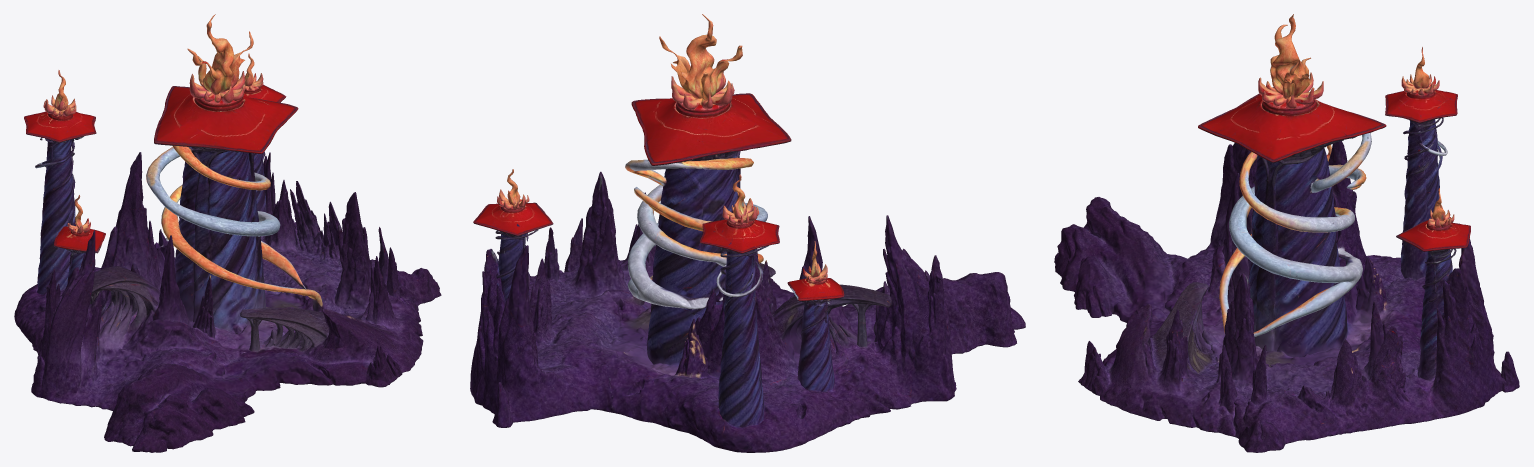
Rendered from conjurot.glb.
3 renders of one model, left to right at view 1: azimuth 30°, elevation 25°; view 2: azimuth 150°, elevation 25°; view 3: azimuth 270°, elevation 25°, orthographic. The views are drawn at different scales.
Size of the model in its own units: 1.9 by 1.4 by 1.77.
1 material, 1 textured.
